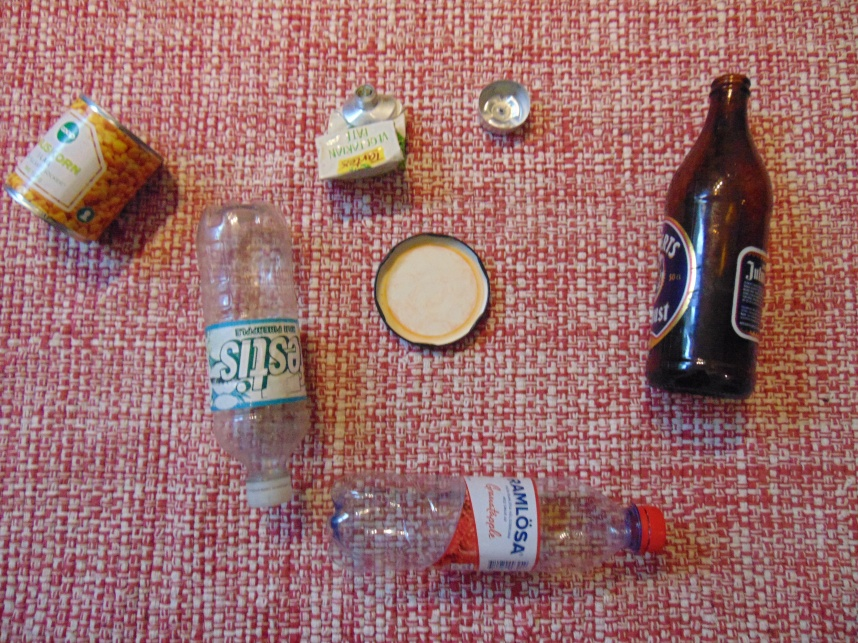glass_bottle: (644, 72, 775, 402)
metal: (373, 233, 491, 349), (316, 82, 407, 182), (477, 79, 534, 137)
metal_can: (3, 91, 165, 245)
plastic_bottle: (195, 202, 312, 509), (330, 474, 668, 572)
